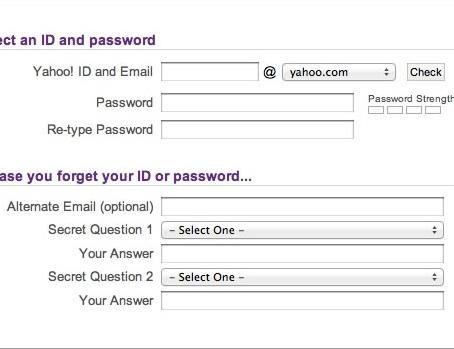button: (408, 63, 446, 81)
field: (159, 289, 445, 310), (159, 195, 443, 216), (160, 243, 445, 263), (160, 221, 444, 239), (160, 268, 443, 285), (159, 118, 355, 139), (160, 92, 354, 113), (282, 62, 396, 81), (160, 62, 259, 80)
field_with_label: (7, 193, 444, 217), (80, 288, 445, 311), (49, 220, 445, 240), (49, 266, 444, 286), (80, 242, 446, 263), (48, 116, 356, 140), (97, 91, 355, 114), (34, 61, 260, 82)
